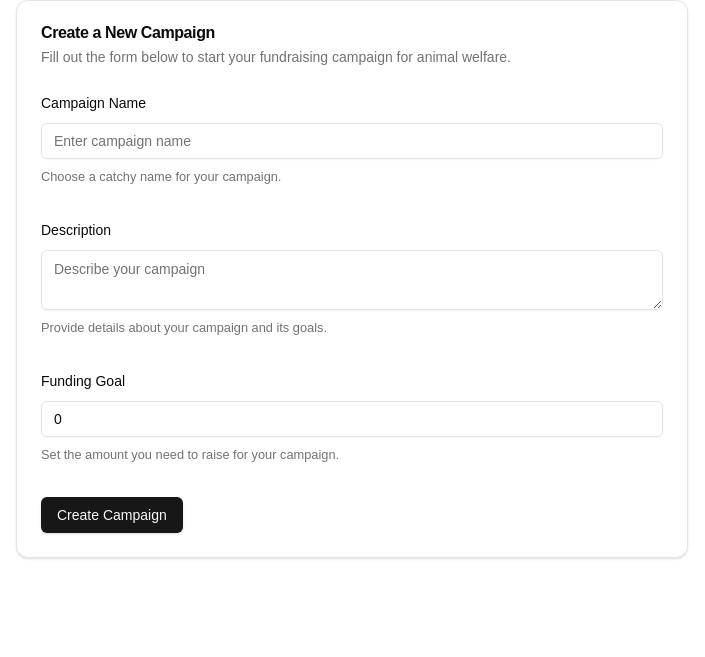
Scenario: NewCampaignPage › displays validation errors for invalid input
Click the button "Create Campaign" at (112, 515), box 41,497 -> 183,533
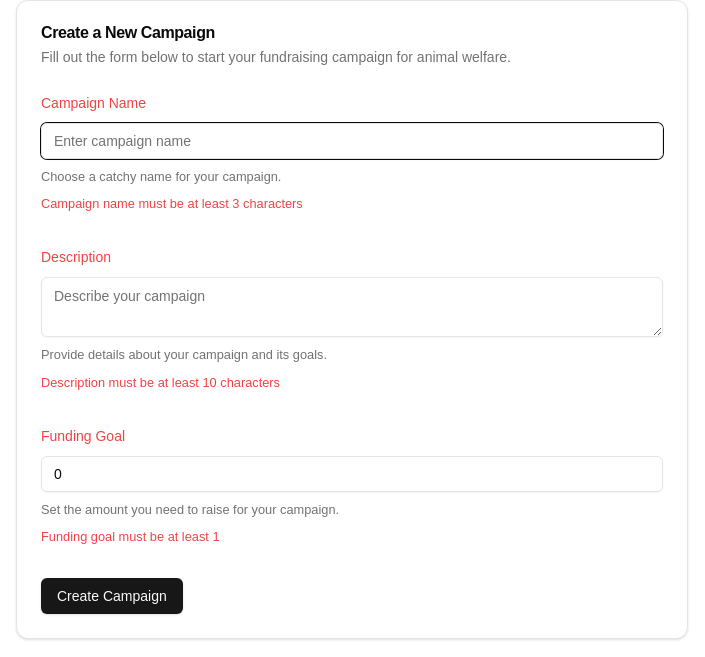
Now the text "Campaign name must be at least 3 characters" is shown, box 41,196 -> 303,211
Now the text "Description must be at least 10 characters" is shown, box 41,375 -> 280,390
Now the text "Funding goal must be at least 1" is shown, box 41,529 -> 220,544
